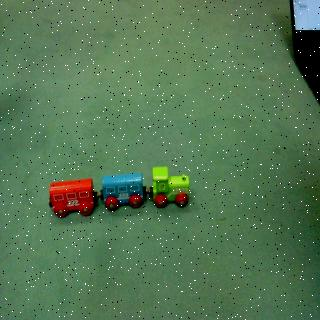train: (46, 161, 193, 222)
